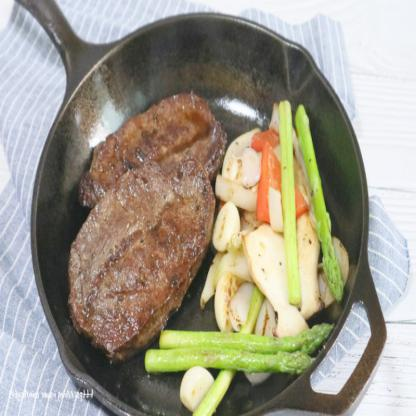Carne: (70, 75, 222, 352)
